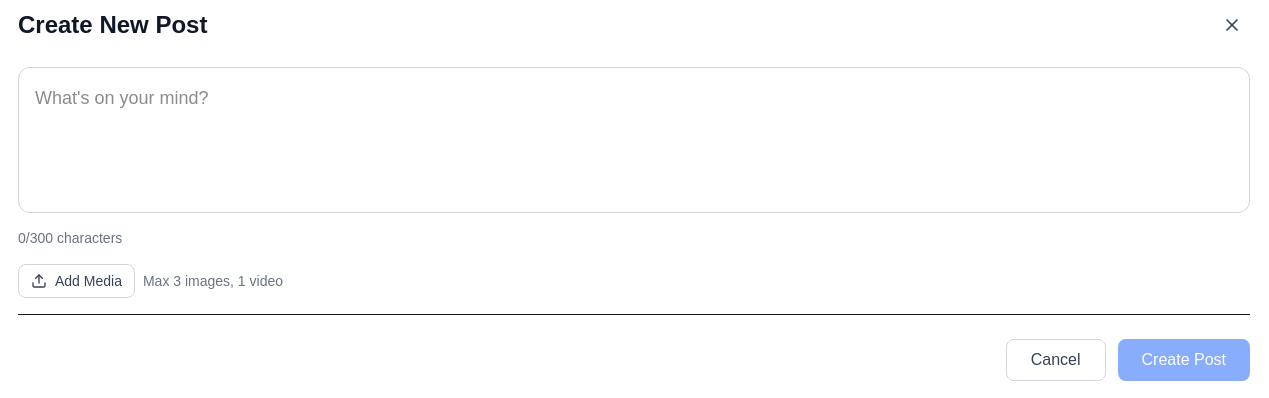
it: PostForm › displays character counter
The width and height of the screenshot is (1269, 398).
Type "Test content" into the text box with placeholder "What's on your mind?" at (634, 140), box x1=18 y1=67 x2=1250 y2=213
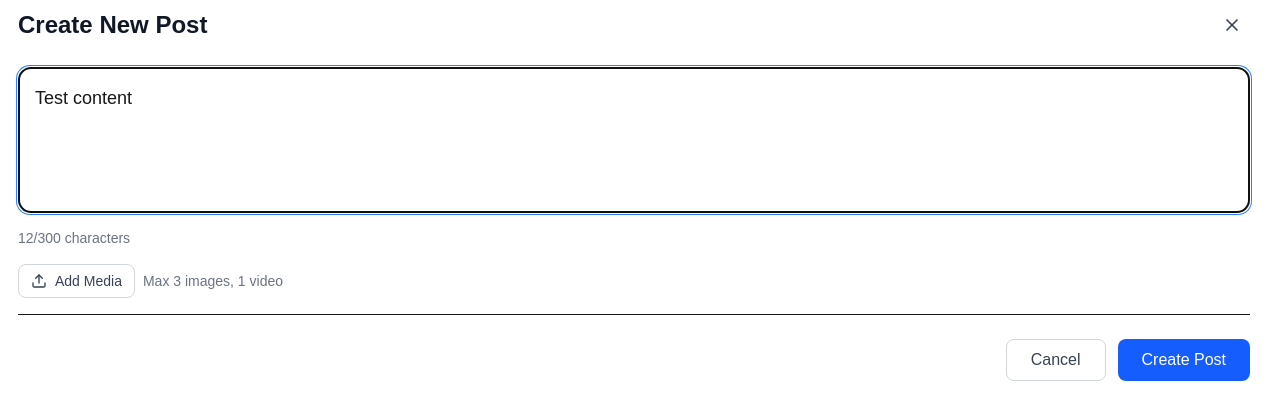
Now the text "12/300 characters" is shown, box x1=18 y1=228 x2=130 y2=248
